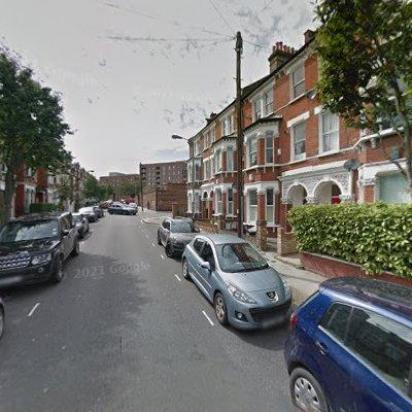moving-car: (107, 200, 135, 216)
stationary-car-onstreet: (282, 276, 412, 412), (181, 230, 293, 334), (0, 210, 80, 294), (156, 216, 200, 258), (69, 212, 89, 240), (78, 206, 98, 222), (0, 296, 6, 342), (88, 204, 104, 218)
